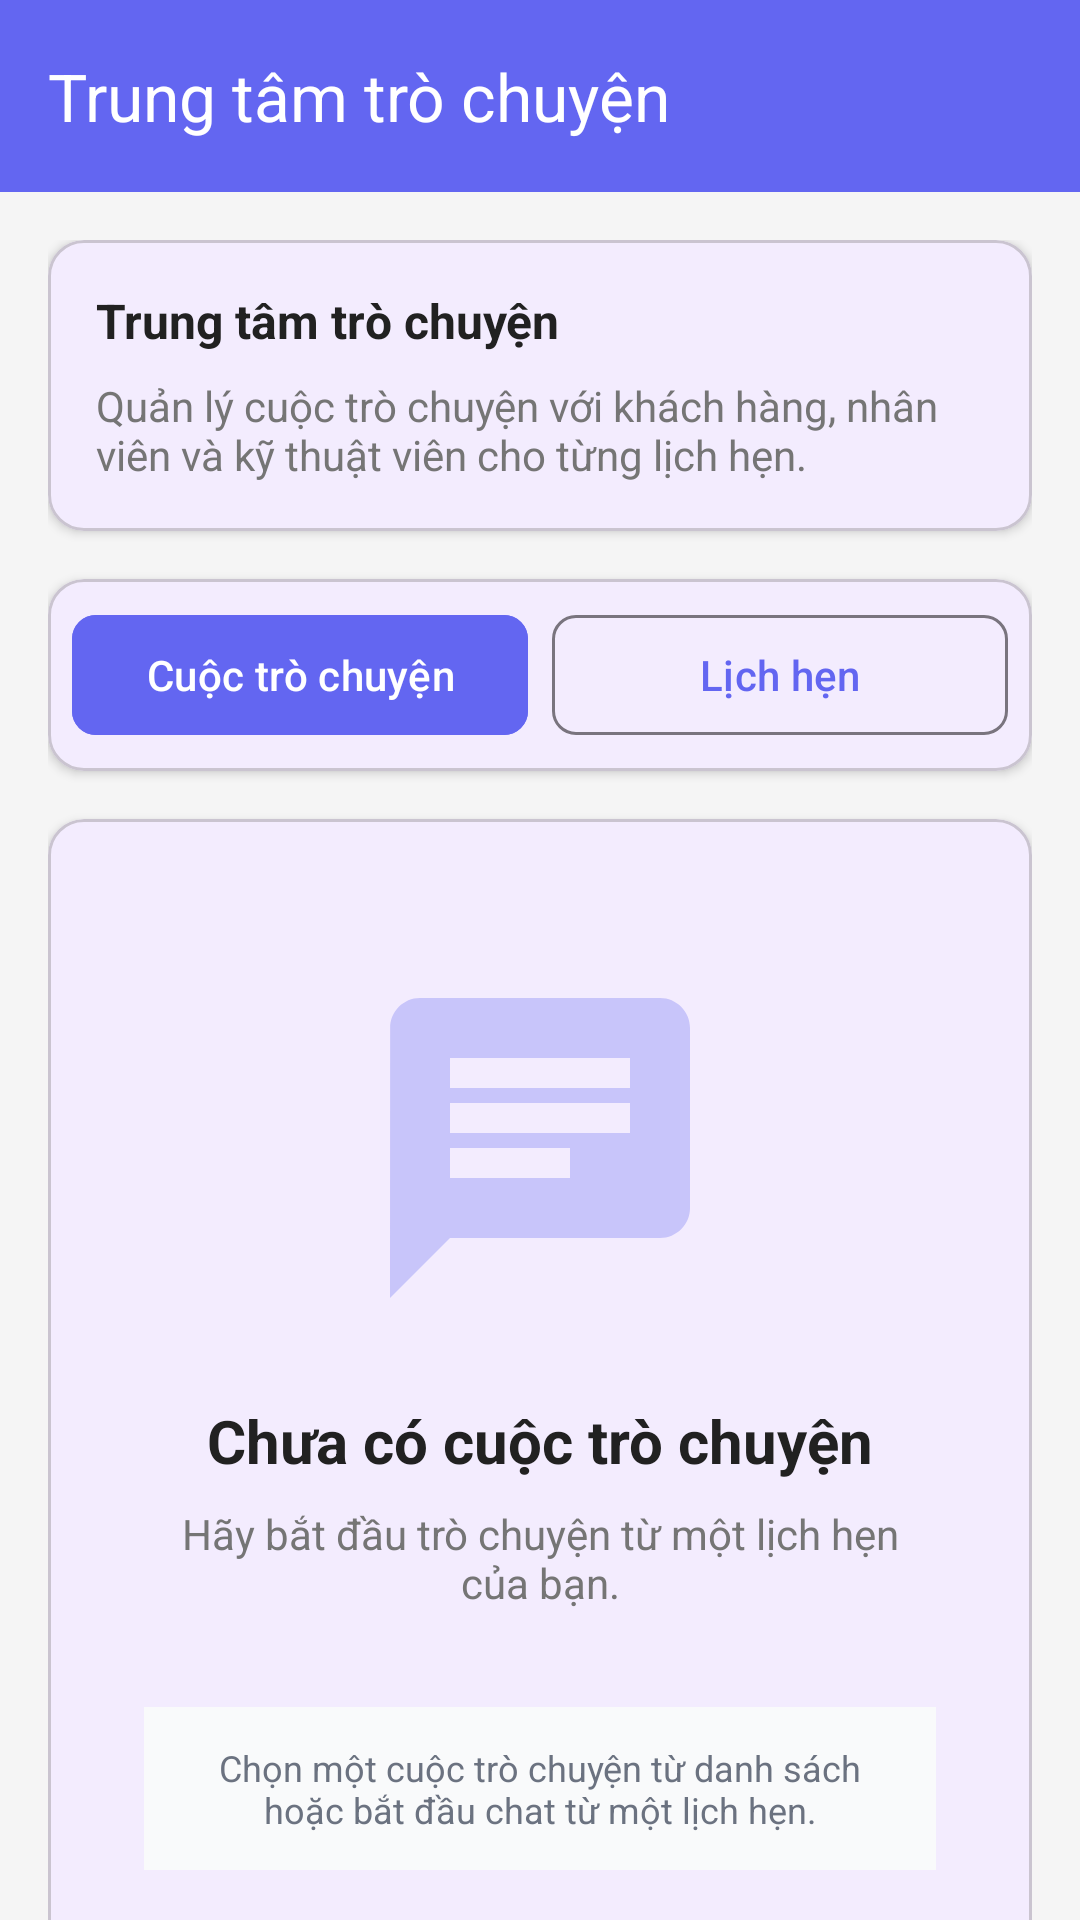

Screen size 1080x1920. Icon name, then its center in pixels as point (x, y):
chat: point (540, 1147)
